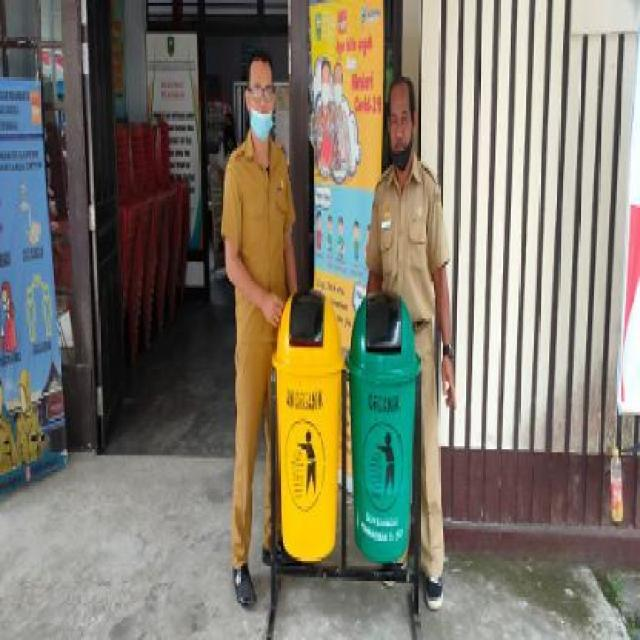garbage container: (265, 291, 348, 582), (348, 291, 426, 576)
